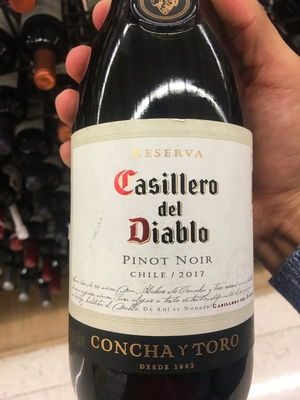casillero del diablo pinot noir: (62, 4, 266, 400)
